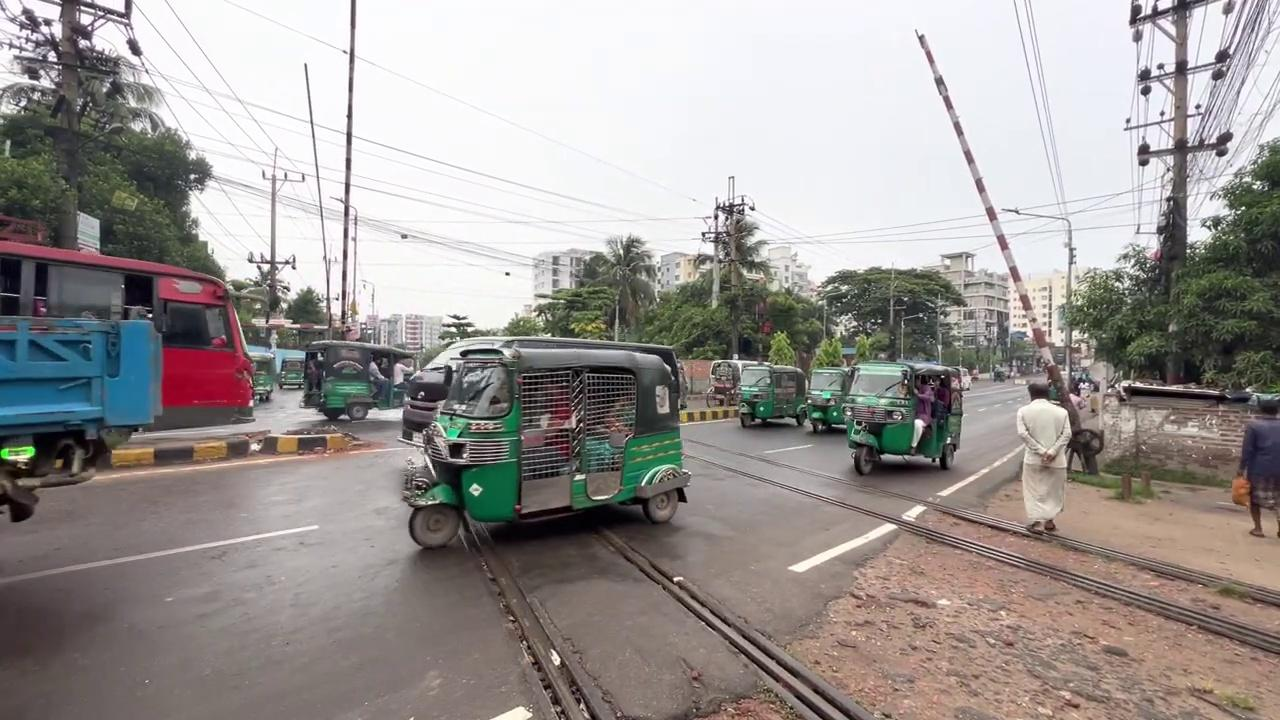Fence: (1016, 381, 1072, 532), (1237, 396, 1279, 537)
Garbage: (914, 29, 1071, 401), (1001, 207, 1074, 393), (338, 0, 358, 337)
Motorcycle: (679, 431, 1279, 655), (457, 509, 876, 718)
Railroad-crossing: (579, 232, 658, 340), (284, 285, 324, 325)
Rickshaw: (0, 226, 258, 520), (394, 332, 689, 547), (299, 339, 416, 421), (737, 363, 808, 427), (805, 365, 852, 433)
